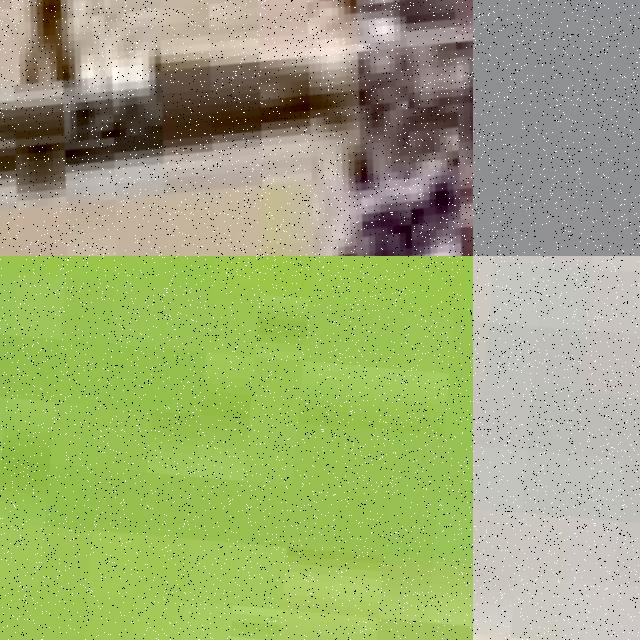drone: (0, 0, 473, 256)
